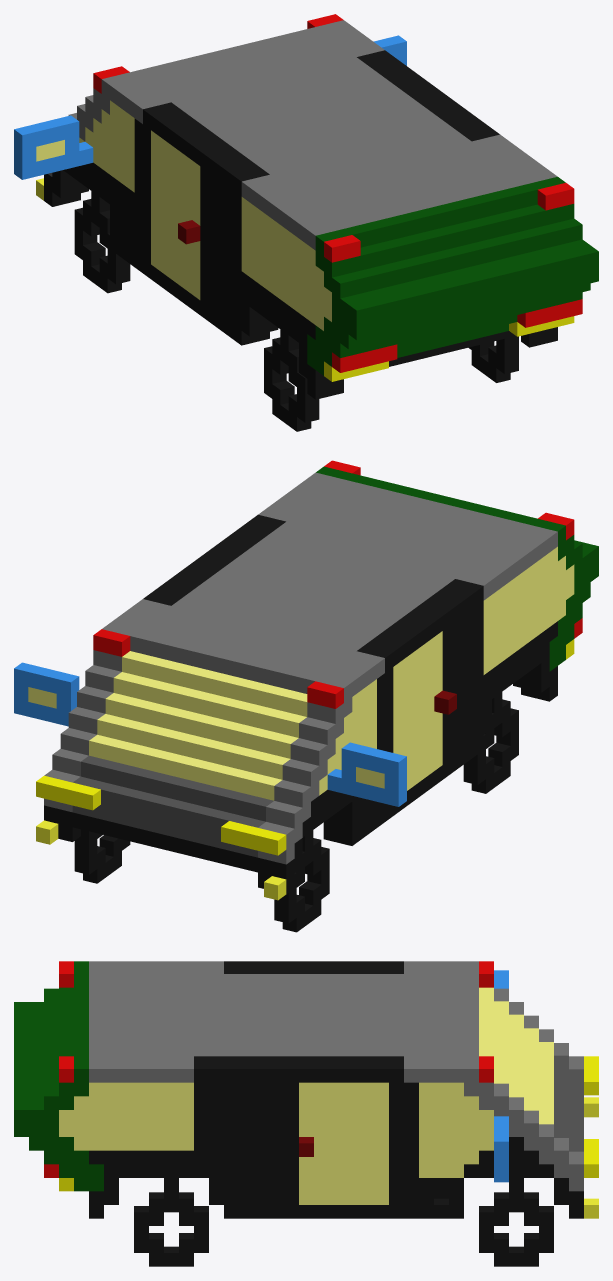
File: car.obj
3 views of the same model, one above another, from view 1: azimuth 30°, elevation 25°; view 2: azimuth 150°, elevation 25°; view 3: azimuth 270°, elevation 25° (orthographic). The views are drawn at different scales.
Bounding box in the file's own units: 2.7 × 1.5 × 3.9.
Materials: 1 (1 with a texture image).
